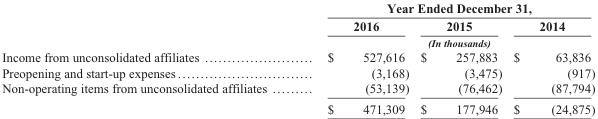table: (1, 0, 594, 115)
table column: (1, 0, 296, 115), (296, 0, 414, 115), (414, 0, 507, 115), (507, 0, 594, 115)
table column header: (1, 0, 594, 49)
table row: (1, 16, 594, 35), (1, 80, 594, 98), (1, 98, 594, 115), (1, 0, 594, 16), (1, 64, 594, 80), (1, 49, 594, 64), (1, 35, 594, 49)
table spanning cell: (296, 0, 594, 16), (296, 35, 594, 49)
